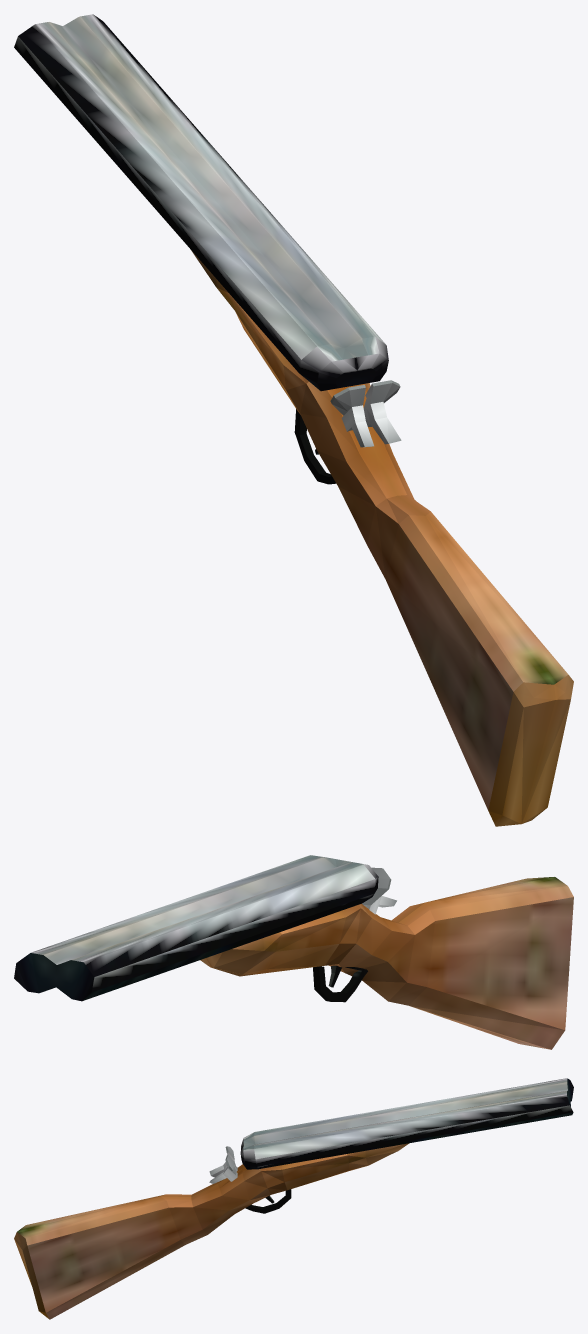
Rendered from shoot0009.obj.
3 renders of one model, top to bottom at view 1: azimuth 30°, elevation 25°; view 2: azimuth 150°, elevation 25°; view 3: azimuth 270°, elevation 25°, orthographic. The views are drawn at different scales.
Visible parts, largest first — view 1: Cube, Cube.001, Cube.003; view 2: Cube, Cube.001, Cube.002, Cube.003; view 3: Cube, Cube.001, Cube.003, Cube.002.
Part boxes in pixels (box(x1,y1,x2,y2)): Cube: box(191, 250, 573, 826); Cube.001: box(14, 14, 388, 391); Cube.003: box(330, 380, 401, 447); Cube: box(200, 877, 573, 1049); Cube.001: box(14, 855, 378, 1001); Cube.002: box(313, 965, 367, 1002); Cube.003: box(362, 867, 396, 914); Cube: box(14, 1143, 408, 1319); Cube.001: box(240, 1078, 573, 1169); Cube.003: box(209, 1146, 237, 1183); Cube.002: box(245, 1189, 291, 1213).
Bounding box in the file's own units: 0.2525 × 1.03 × 2.19.
Materials: 1 (1 with a texture image).
